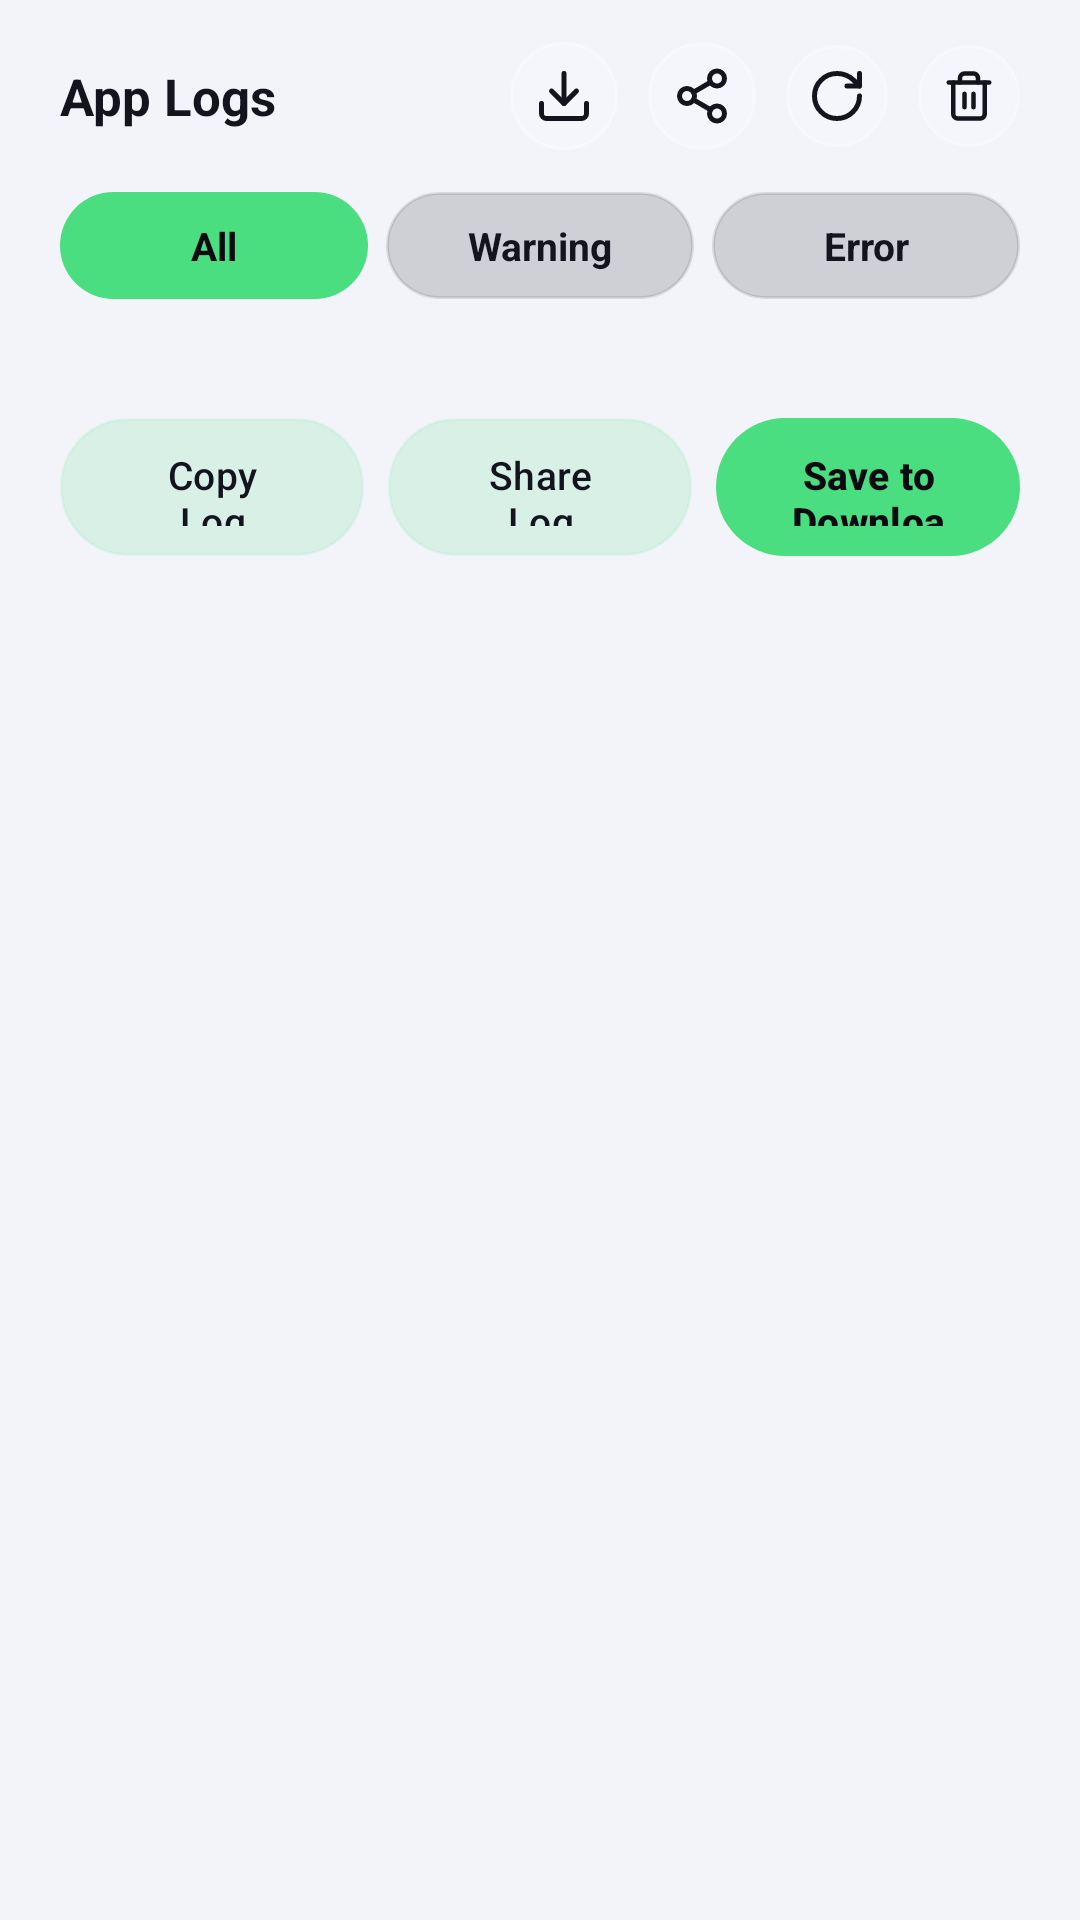

Icon click points for this 1080px×1920px phone screenshot, format (x,y):
delete: (969,96)
download: (564,96)
share: (702,96)
update: (837,96)
